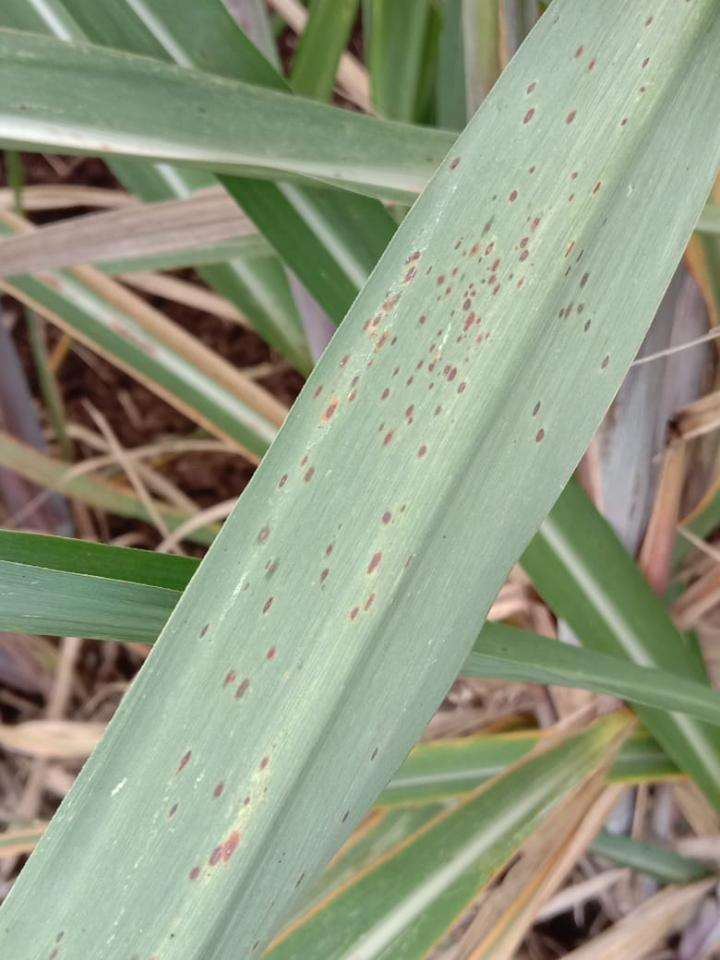Rust: (361, 289, 402, 332), (208, 827, 240, 867), (403, 250, 422, 284), (487, 257, 502, 295), (321, 399, 341, 422), (461, 283, 477, 311), (514, 237, 531, 262), (462, 311, 482, 332), (373, 331, 390, 355), (480, 214, 496, 239), (177, 749, 192, 775), (366, 551, 382, 575), (347, 376, 360, 403), (300, 444, 315, 467), (235, 678, 250, 700), (265, 559, 280, 581), (558, 301, 574, 320), (363, 590, 376, 613), (427, 352, 441, 372), (522, 106, 536, 126), (435, 286, 452, 302), (443, 364, 458, 382), (257, 526, 271, 545), (319, 567, 330, 590), (223, 669, 236, 687), (580, 270, 592, 289), (339, 353, 352, 370), (262, 596, 274, 614), (405, 404, 415, 425), (167, 801, 178, 820), (189, 865, 202, 881), (475, 331, 491, 344), (565, 109, 578, 125), (383, 429, 394, 447), (564, 240, 575, 258), (382, 511, 395, 526), (304, 466, 316, 482), (312, 383, 324, 399), (484, 241, 496, 257), (213, 782, 224, 799), (199, 623, 210, 639), (349, 605, 360, 621), (530, 217, 541, 233), (295, 871, 305, 888), (416, 445, 428, 459), (449, 156, 461, 170), (259, 755, 270, 770), (266, 645, 277, 660), (325, 541, 336, 556), (508, 189, 519, 204), (526, 81, 537, 96), (532, 400, 541, 418), (435, 273, 446, 287), (278, 473, 288, 488), (535, 428, 545, 443), (574, 44, 584, 59), (55, 930, 65, 944), (469, 244, 479, 258), (601, 354, 610, 369), (592, 181, 601, 196), (390, 366, 400, 379), (454, 237, 464, 250), (640, 57, 650, 70), (405, 553, 413, 569), (576, 302, 585, 316), (49, 947, 59, 959), (251, 940, 259, 955), (457, 382, 467, 394), (583, 318, 591, 333), (576, 249, 584, 264), (381, 388, 390, 400), (517, 276, 526, 288), (645, 15, 654, 27), (564, 265, 572, 278), (418, 315, 428, 325), (389, 336, 398, 347), (425, 265, 434, 276), (341, 811, 349, 823), (378, 421, 386, 433), (464, 346, 470, 362), (371, 747, 378, 760), (416, 359, 425, 369), (435, 405, 443, 416), (460, 271, 467, 283), (406, 376, 414, 386), (428, 343, 436, 353), (601, 217, 608, 228), (588, 60, 595, 71), (369, 331, 377, 340), (528, 165, 536, 174), (571, 171, 579, 180), (244, 797, 251, 807), (568, 192, 575, 202), (553, 15, 560, 25), (507, 273, 515, 281), (620, 118, 628, 126), (243, 582, 250, 591), (366, 360, 373, 369), (167, 933, 175, 940), (452, 267, 459, 275), (400, 504, 406, 513), (456, 335, 462, 344), (428, 382, 434, 390), (437, 329, 443, 337), (639, 85, 645, 93), (270, 899, 275, 908), (450, 309, 455, 318), (337, 523, 343, 530), (461, 250, 467, 257), (477, 257, 483, 264), (480, 278, 486, 284), (389, 539, 394, 546), (436, 370, 441, 376), (492, 195, 498, 200), (526, 216, 531, 222), (206, 873, 211, 877), (282, 851, 286, 856), (530, 263, 535, 267), (264, 787, 267, 793), (437, 258, 440, 262), (278, 860, 281, 863), (333, 535, 336, 538)
